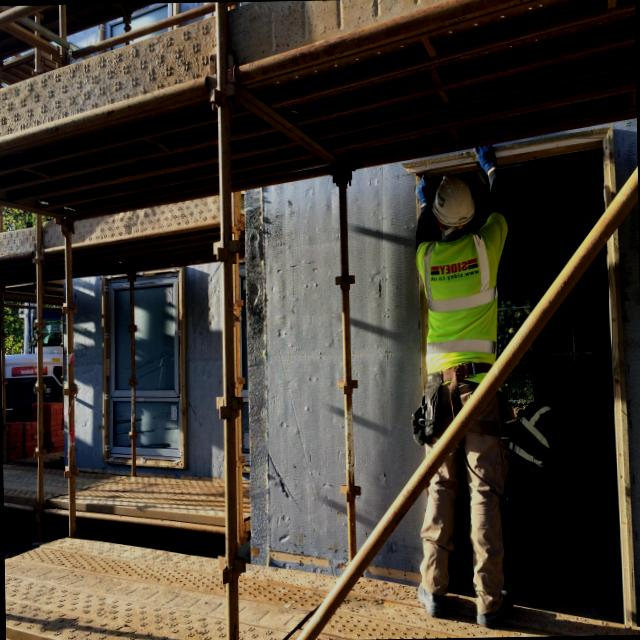helmet: (425, 166, 482, 236)
vest: (416, 224, 499, 402)
